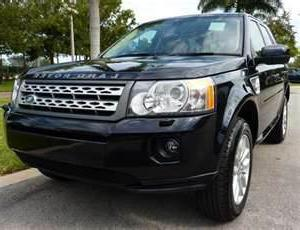Car: (2, 7, 298, 225)
